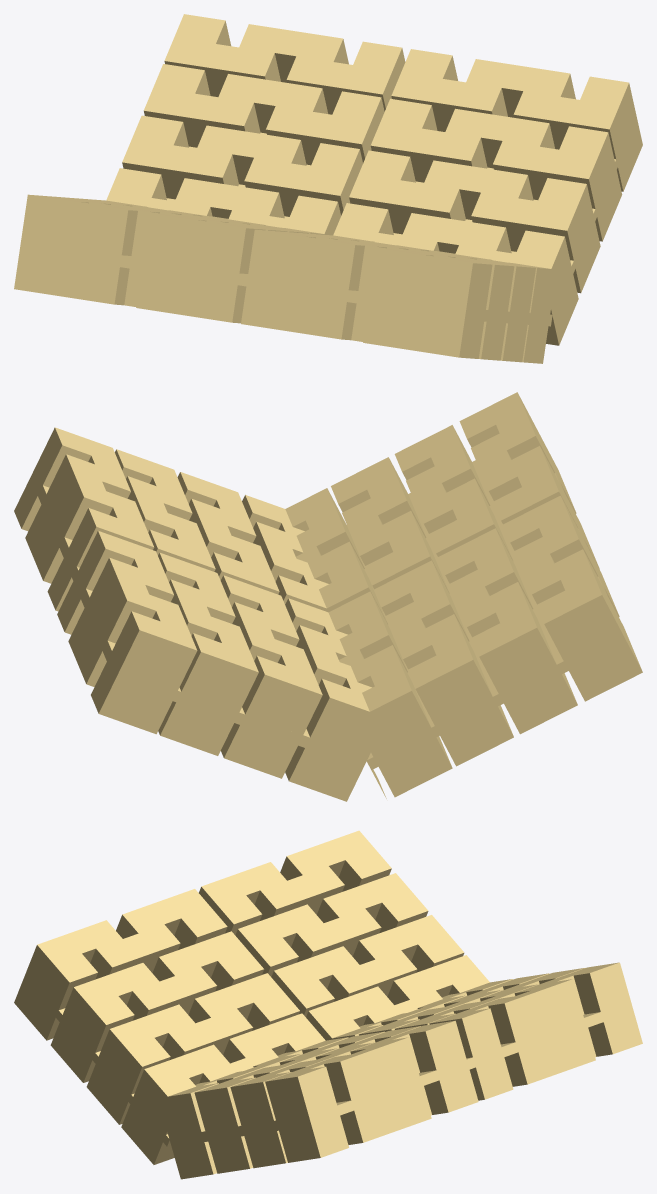
Rendered from ramened.fbx.
3 renders of one model, top to bottom at view 1: azimuth 30°, elevation 25°; view 2: azimuth 150°, elevation 25°; view 3: azimuth 270°, elevation 25°, orthographic. The views are drawn at different scales.
Visible parts, largest first — view 1: ramened, ramened1; view 2: ramened1, ramened; view 3: ramened1, ramened.
Boxes of the visible parts, bbox=[...] form: ramened: bbox=[106, 14, 642, 345]; ramened1: bbox=[14, 194, 552, 363]; ramened1: bbox=[285, 392, 642, 798]; ramened: bbox=[14, 427, 387, 801]; ramened1: bbox=[14, 830, 489, 1164]; ramened: bbox=[158, 962, 642, 1179].
Size of the model in its own units: 185 by 52.73 by 183.
